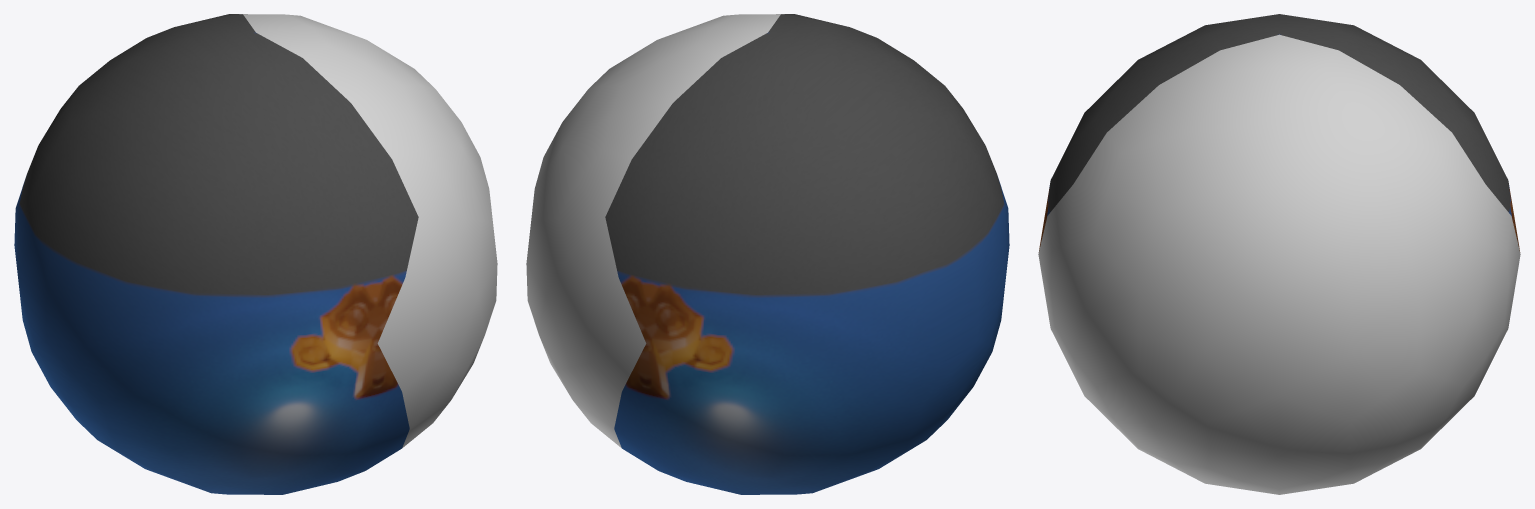
The picture shows the model from 3 angles, left to right: view 1: azimuth 30°, elevation 25°; view 2: azimuth 150°, elevation 25°; view 3: azimuth 270°, elevation 25°; orthographic projection.
Parts seen in each view (by area): view 1: Icosphere; view 2: Icosphere; view 3: Icosphere.
Boxes of the visible parts, bbox=[...] form: Icosphere: bbox=[14, 14, 497, 494]; Icosphere: bbox=[526, 14, 1009, 494]; Icosphere: bbox=[1038, 14, 1520, 494].
Bounding box in the file's own units: 1.85 × 1.86 × 1.85.
